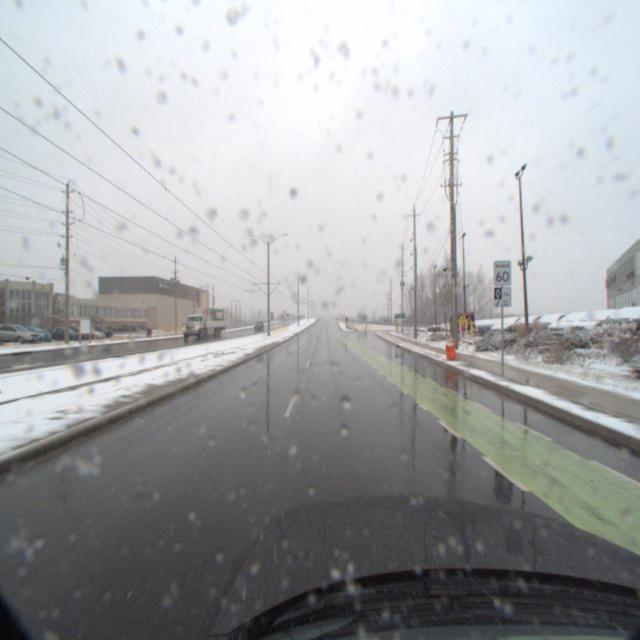Car: (539, 308, 619, 341), (519, 310, 588, 340), (486, 314, 541, 340)
Truck: (185, 306, 231, 339)
